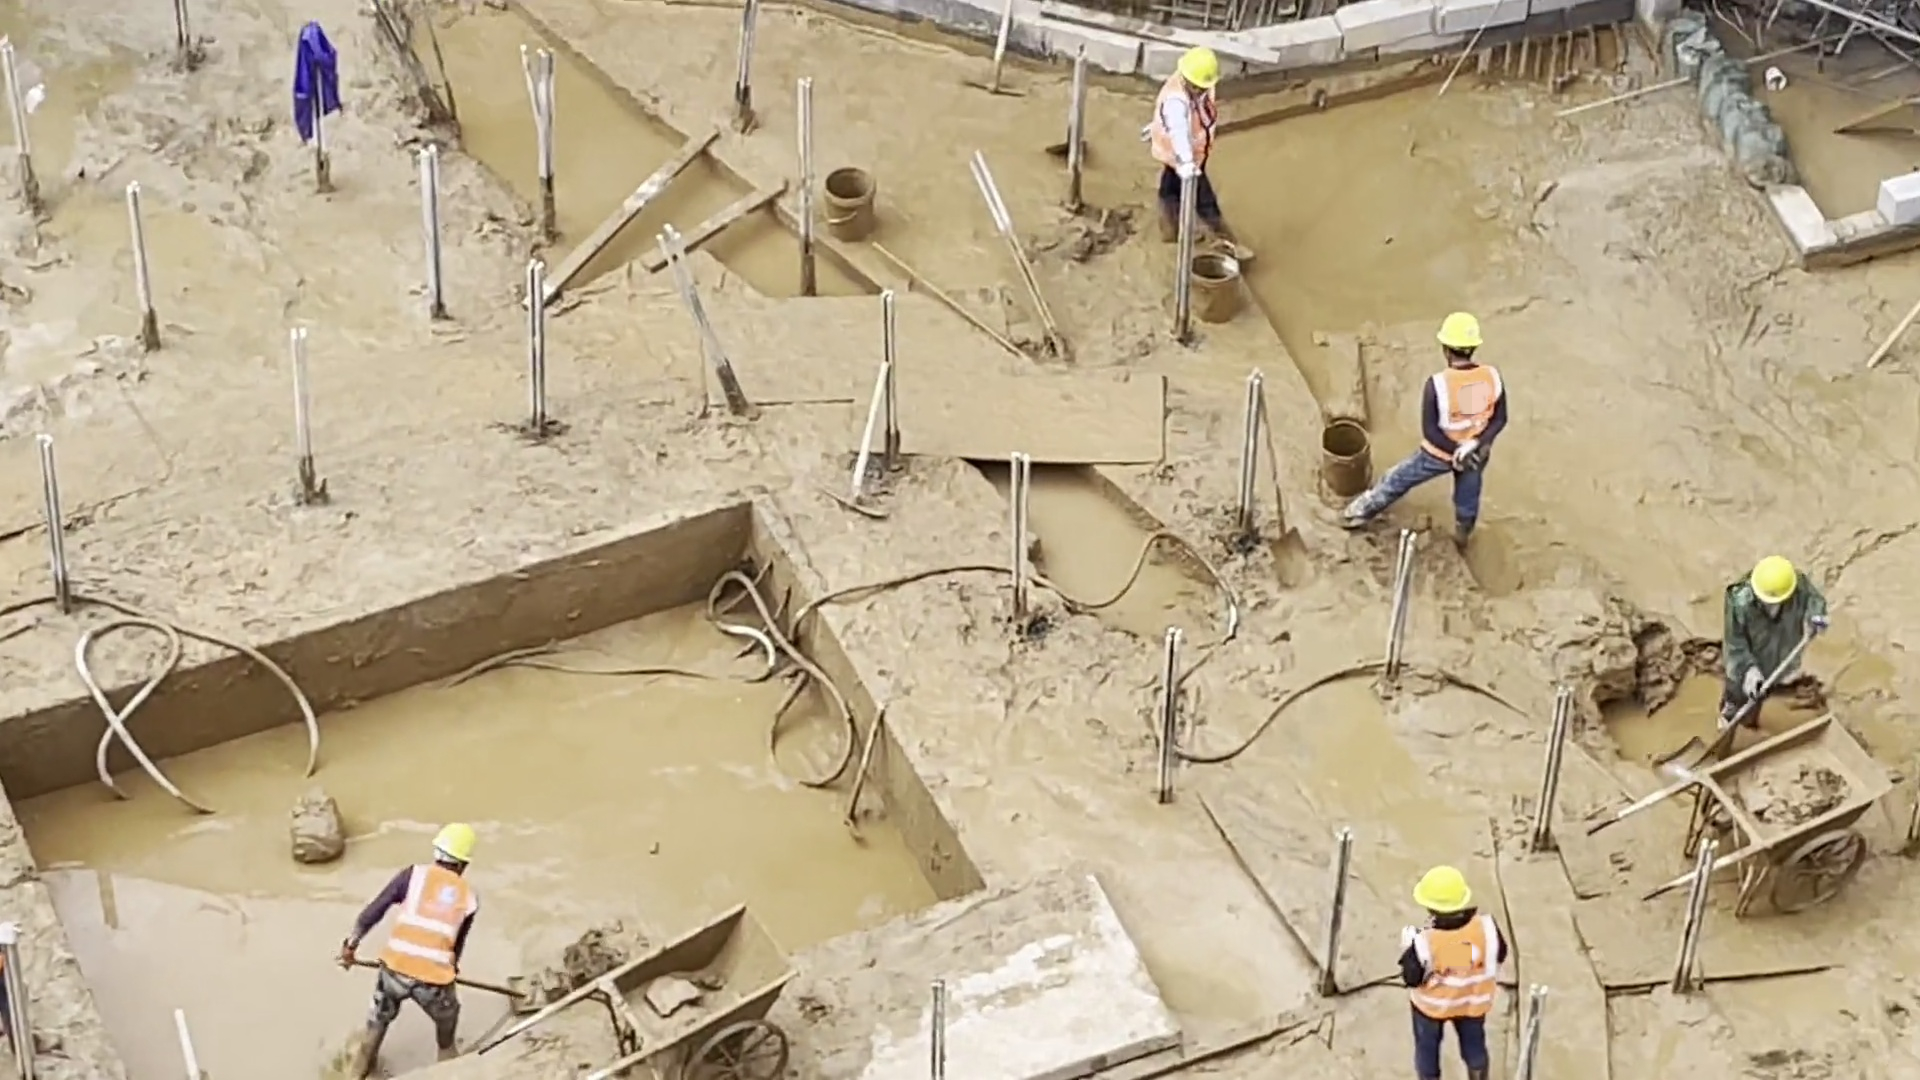handcart: (1588, 710, 1897, 912), (481, 901, 808, 1080)
helmet: (1747, 553, 1799, 606), (1413, 866, 1473, 913), (431, 817, 477, 864), (1433, 308, 1484, 350), (1176, 48, 1221, 90)
person: (1340, 306, 1508, 552), (334, 816, 484, 1080), (1146, 45, 1264, 263), (1400, 866, 1511, 1080), (1711, 557, 1833, 703)
vest: (391, 859, 473, 986), (1415, 364, 1504, 466), (1422, 914, 1497, 1025), (1149, 73, 1221, 168)
